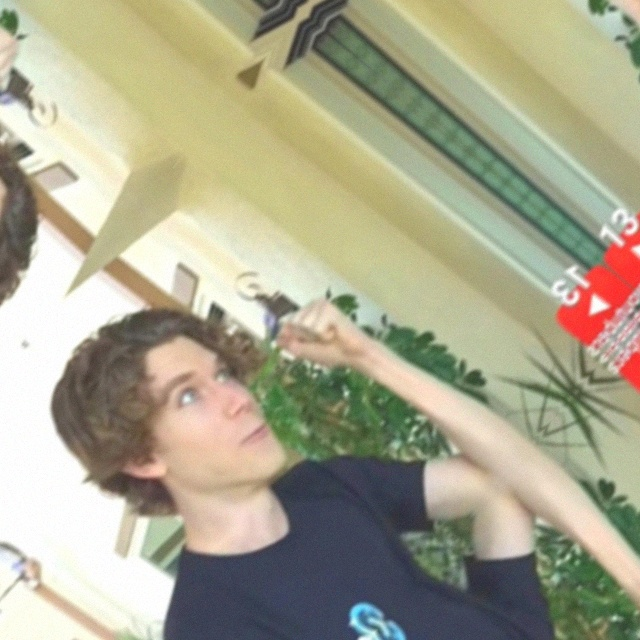Rock: (571, 0, 640, 27)
